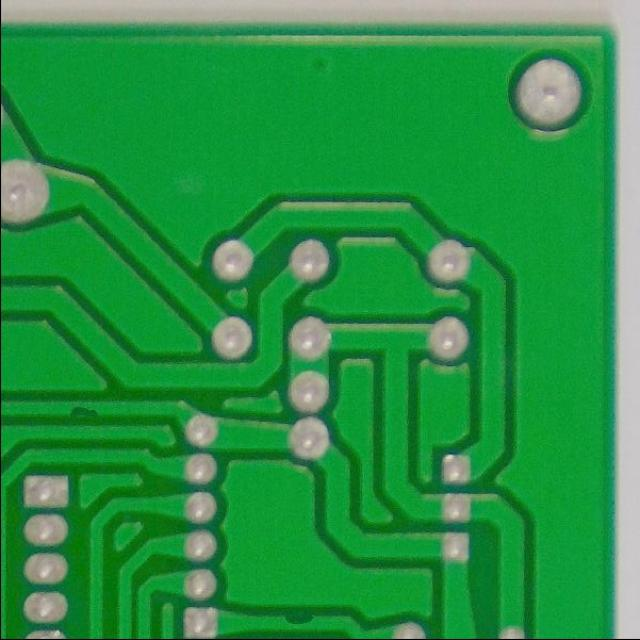mouse_bite: (59, 393, 104, 423), (281, 606, 319, 636)
